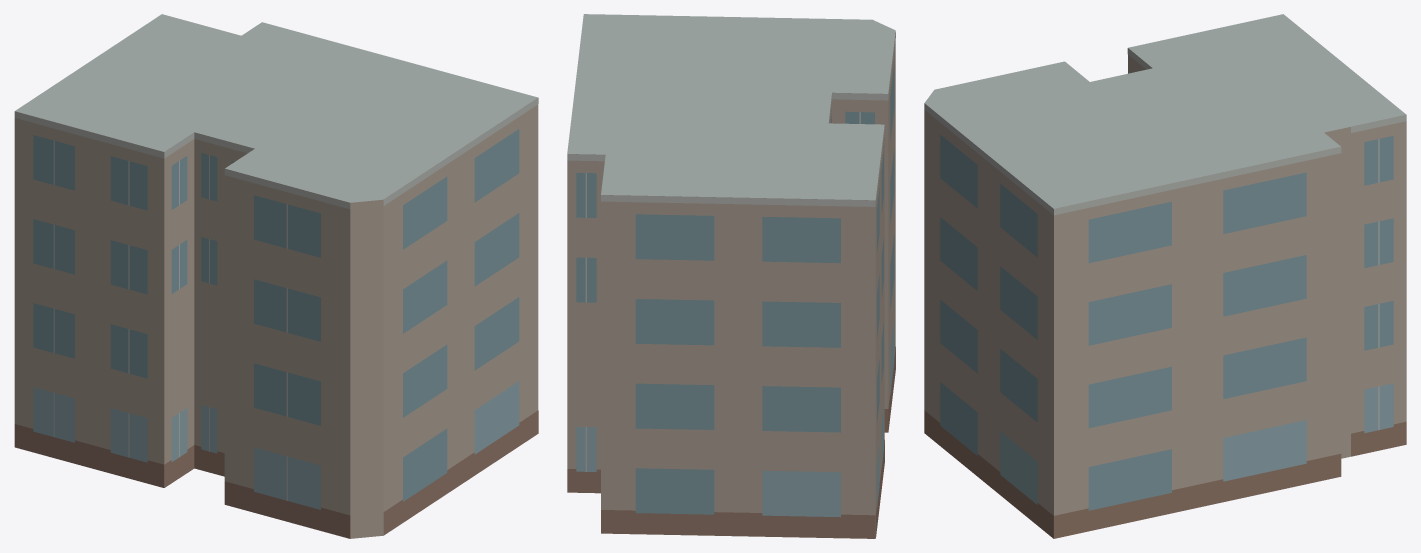
File: survey-upis-32740891.glb
3 renders of one model, left to right at view 1: azimuth 30°, elevation 25°; view 2: azimuth 150°, elevation 25°; view 3: azimuth 270°, elevation 25°, orthographic. The views are drawn at different scales.
Parts seen in each view (by area): view 1: survey-upis-32740891.tmp; view 2: survey-upis-32740891.tmp; view 3: survey-upis-32740891.tmp.
Boxes of the visible parts, left/top/right/bottom form: survey-upis-32740891.tmp: left=14, top=14, right=538, bottom=538; survey-upis-32740891.tmp: left=567, top=14, right=895, bottom=538; survey-upis-32740891.tmp: left=924, top=14, right=1406, bottom=538.
Size of the model in its own units: 15.72 by 12.4 by 16.43.
